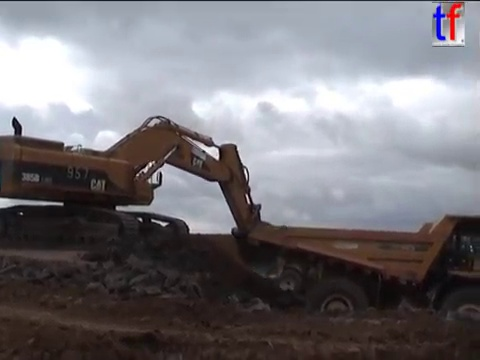excavator: (1, 112, 291, 285)
truck: (243, 212, 480, 349)
